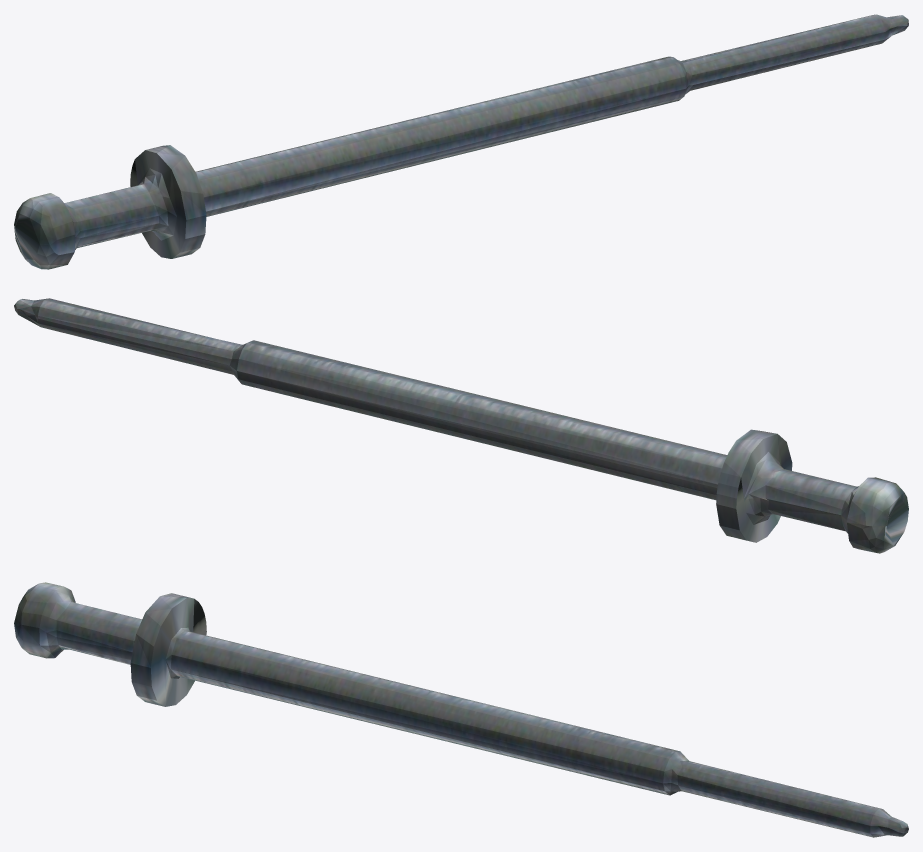
The model's file is Firing_Pin.dae.
3 views of the same model, one above another, from view 1: azimuth 30°, elevation 25°; view 2: azimuth 150°, elevation 25°; view 3: azimuth 330°, elevation 25° (orthographic).
Parts seen in each view (by area): view 1: Firing_Pin; view 2: Firing_Pin; view 3: Firing_Pin.
Part boxes in pixels (bbox=[...]): Firing_Pin: bbox=[14, 14, 908, 269]; Firing_Pin: bbox=[14, 298, 908, 553]; Firing_Pin: bbox=[14, 582, 908, 837].
Size of the model in its own units: 0.081 by 0.00892 by 0.00886.
1 material, 1 textured.
